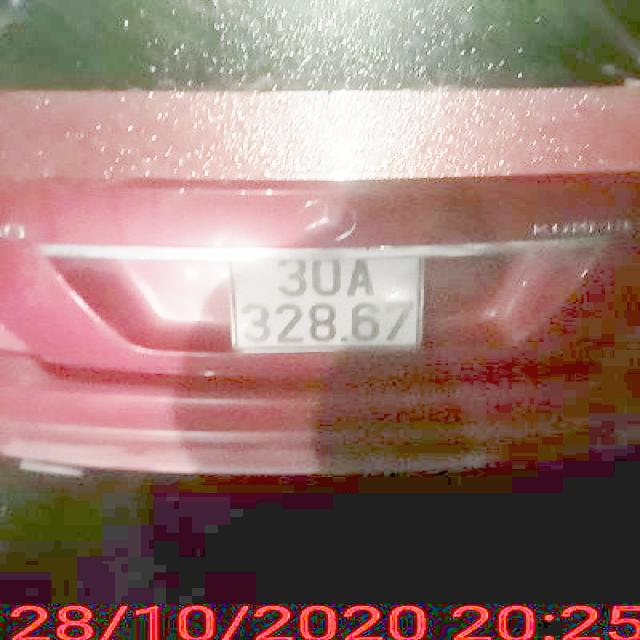license_plate: (233, 254, 422, 351)
